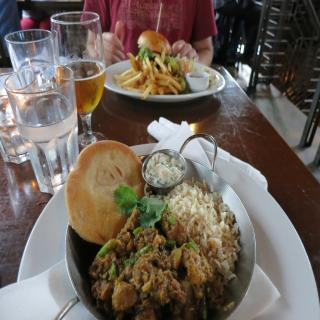French fries: (117, 38, 189, 92)
Hamburger: (136, 31, 174, 68)
